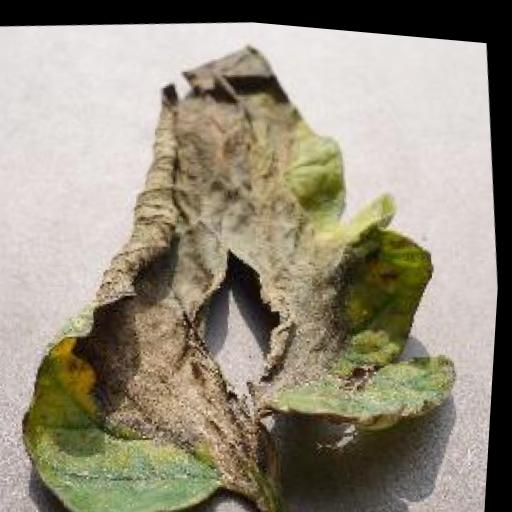Late Blight: (0, 2, 488, 512)
